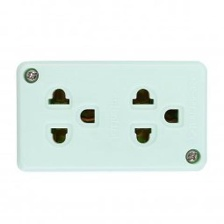three_eye_plug: (9, 58, 211, 177)
